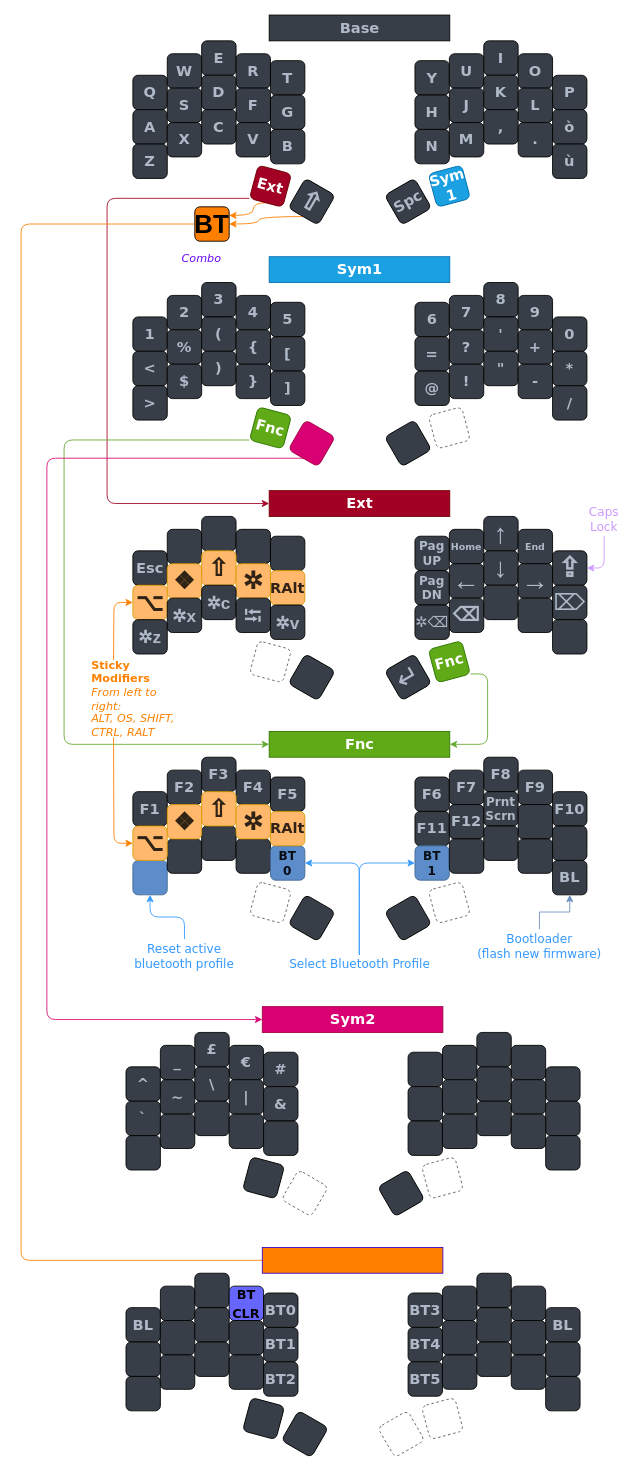
Some shapes in this 636 by 1473 pixel diagram are drawn without their labels. Each missing label, with the centre of its shape:
"BT RES" belongs at (149,877).
"Settings" belongs at (352,1260).
"Sym 2" belongs at (311,443).
